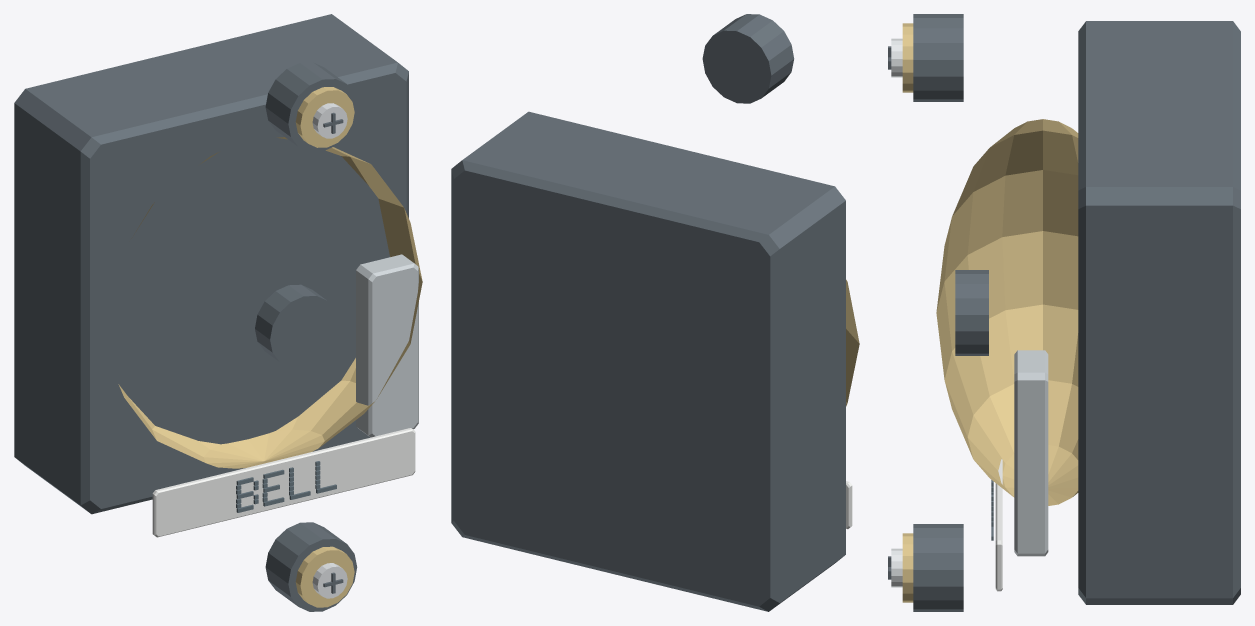
The model's file is bell.glb.
The picture shows the model from 3 angles, left to right: view 1: azimuth 30°, elevation 25°; view 2: azimuth 150°, elevation 25°; view 3: azimuth 270°, elevation 25°; orthographic projection. The views are drawn at different scales.
Visible parts, largest first — view 1: bell-preview; view 2: bell-preview; view 3: bell-preview.
Part boxes in pixels (left/top/right/bottom): bell-preview: left=14, top=14, right=422, bottom=611; bell-preview: left=451, top=14, right=859, bottom=611; bell-preview: left=888, top=14, right=1240, bottom=611.
Bounding box in the file's own units: 1.5 × 2.31 × 1.25.
